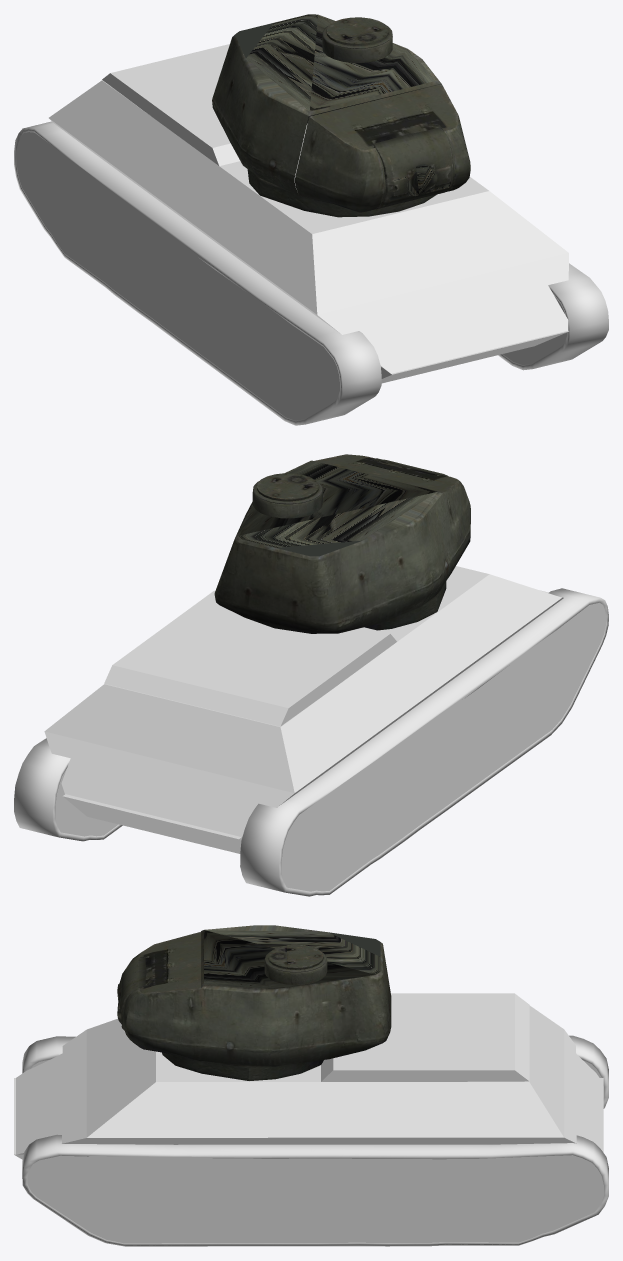
The model's file is tank_collision.fbx.
3 views of the same model, one above another, from view 1: azimuth 30°, elevation 25°; view 2: azimuth 150°, elevation 25°; view 3: azimuth 270°, elevation 25° (orthographic). The views are drawn at different scales.
Visible parts, largest first — view 1: Main Armor Collision, Right Track Collision, Tower Main Collision, Tower Front Collision, Engine Armor Collision, Left Track Collision, Mask Armor Collision, Commander Collision, Bottom Collision; view 2: Main Armor Collision, Right Track Collision, Tower Main Collision, Engine Armor Collision, Left Track Collision, Tower Front Collision, Bottom Collision, Commander Collision; view 3: Left Track Collision, Main Armor Collision, Tower Main Collision, Engine Armor Collision, Tower Front Collision, Commander Collision, Right Track Collision, Mask Armor Collision, Bottom Collision.
Part boxes in pixels (left/top/right/bottom): Main Armor Collision: left=49, top=80, right=568, bottom=373; Right Track Collision: left=14, top=121, right=381, bottom=425; Tower Main Collision: left=212, top=14, right=441, bottom=217; Tower Front Collision: left=295, top=84, right=470, bottom=212; Engine Armor Collision: left=102, top=44, right=307, bottom=165; Left Track Collision: left=498, top=263, right=608, bottom=370; Mask Armor Collision: left=372, top=127, right=453, bottom=209; Commander Collision: left=322, top=17, right=392, bottom=62; Bottom Collision: left=381, top=330, right=568, bottom=383; Main Armor Collision: left=44, top=566, right=563, bottom=836; Right Track Collision: left=240, top=588, right=608, bottom=896; Tower Main Collision: left=214, top=460, right=456, bottom=633; Engine Armor Collision: left=104, top=590, right=396, bottom=726; Left Track Collision: left=14, top=738, right=122, bottom=841; Tower Front Collision: left=314, top=454, right=470, bottom=570; Bottom Collision: left=63, top=590, right=548, bottom=853; Commander Collision: left=252, top=473, right=322, bottom=518; Left Track Collision: left=22, top=1134, right=608, bottom=1246; Main Armor Collision: left=16, top=1005, right=599, bottom=1154; Tower Main Collision: left=162, top=925, right=391, bottom=1080; Engine Armor Collision: left=321, top=993, right=529, bottom=1081; Tower Front Collision: left=122, top=932, right=201, bottom=1061; Commander Collision: left=264, top=944, right=327, bottom=984; Right Track Collision: left=22, top=1035, right=608, bottom=1108; Mask Armor Collision: left=117, top=956, right=146, bottom=1030; Bottom Collision: left=14, top=1078, right=603, bottom=1159.
Bounding box in the file's own units: 304 × 301 × 655.
